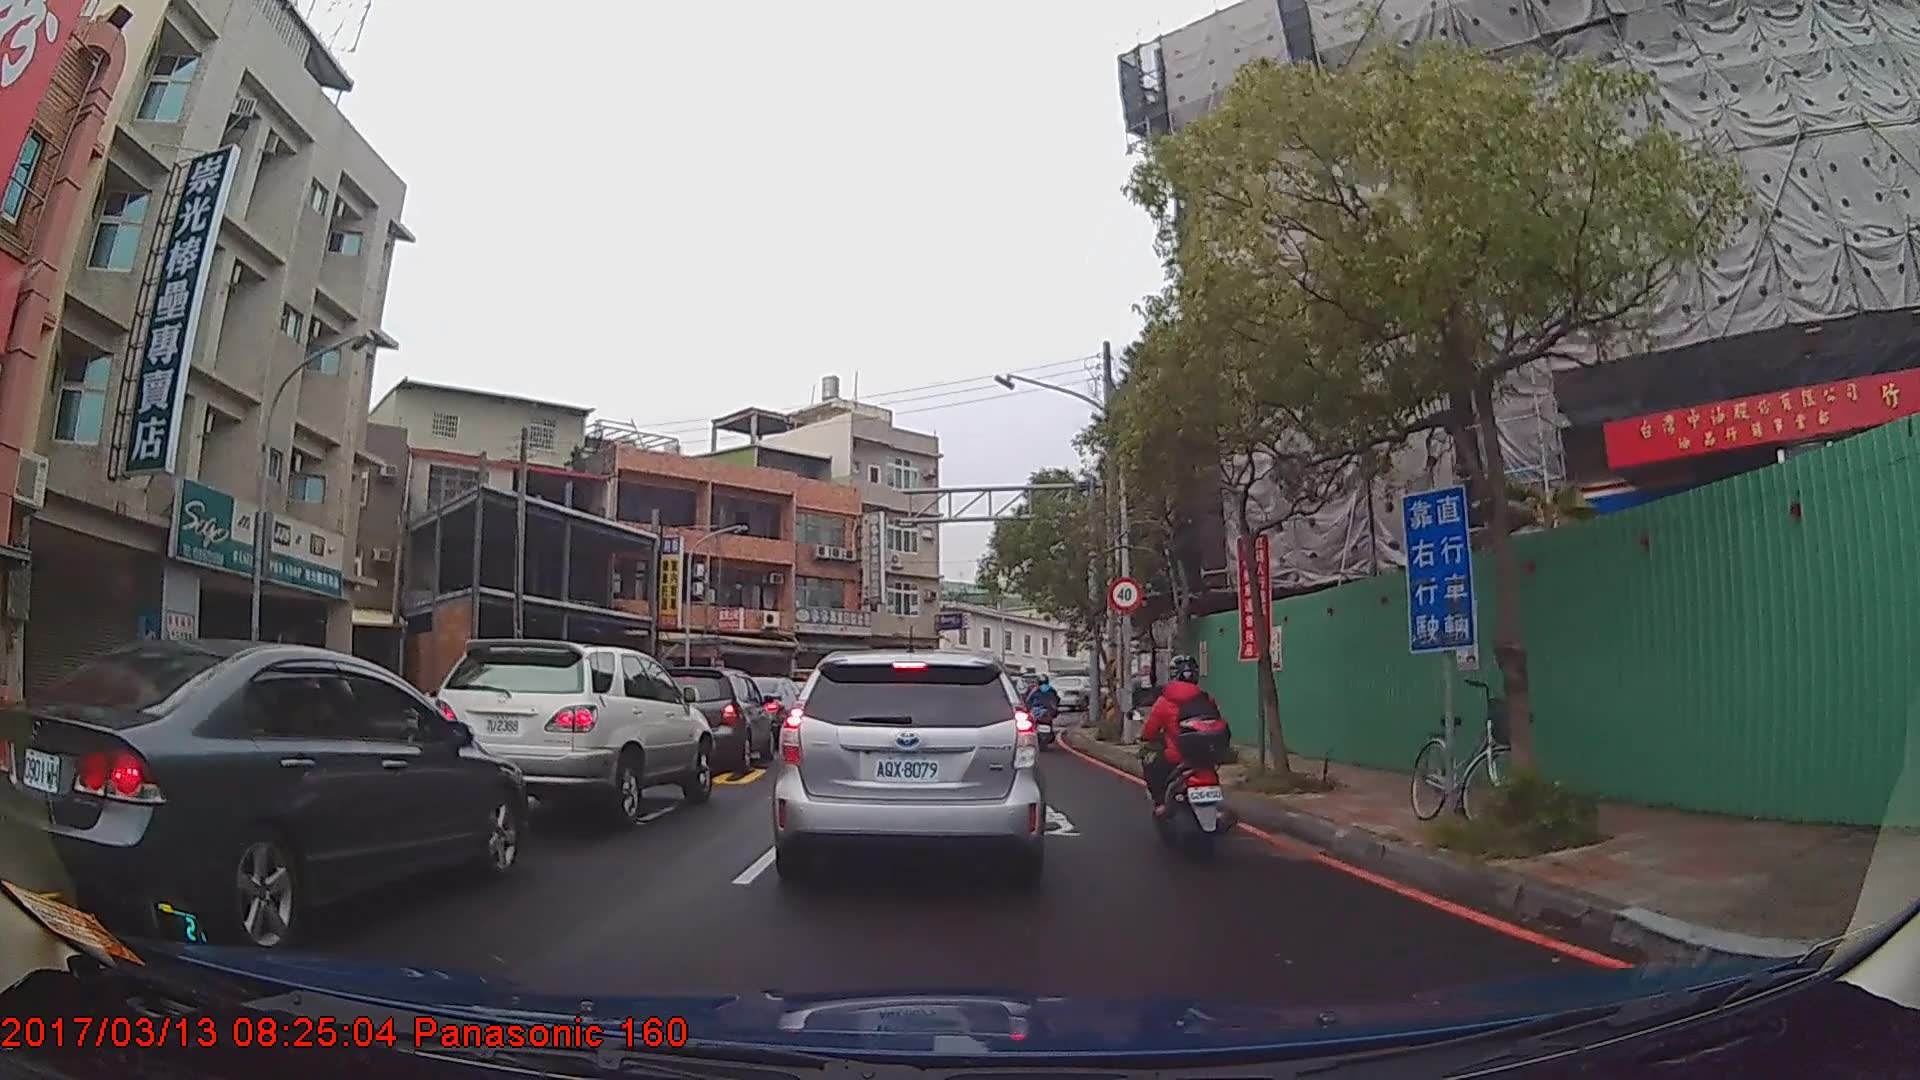rider: (1139, 649, 1235, 853), (1029, 676, 1063, 757)
vehicle: (0, 634, 524, 956), (769, 648, 1047, 880), (425, 636, 713, 825), (646, 664, 773, 772)
